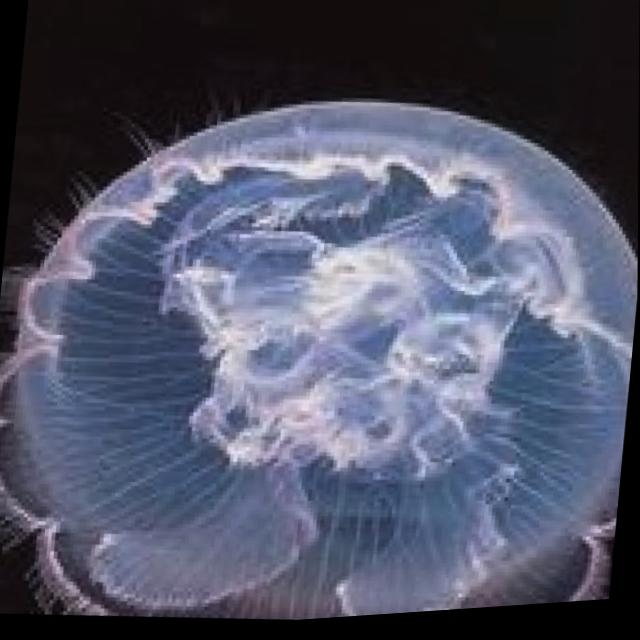Box-jellyfish: (0, 58, 639, 640)
